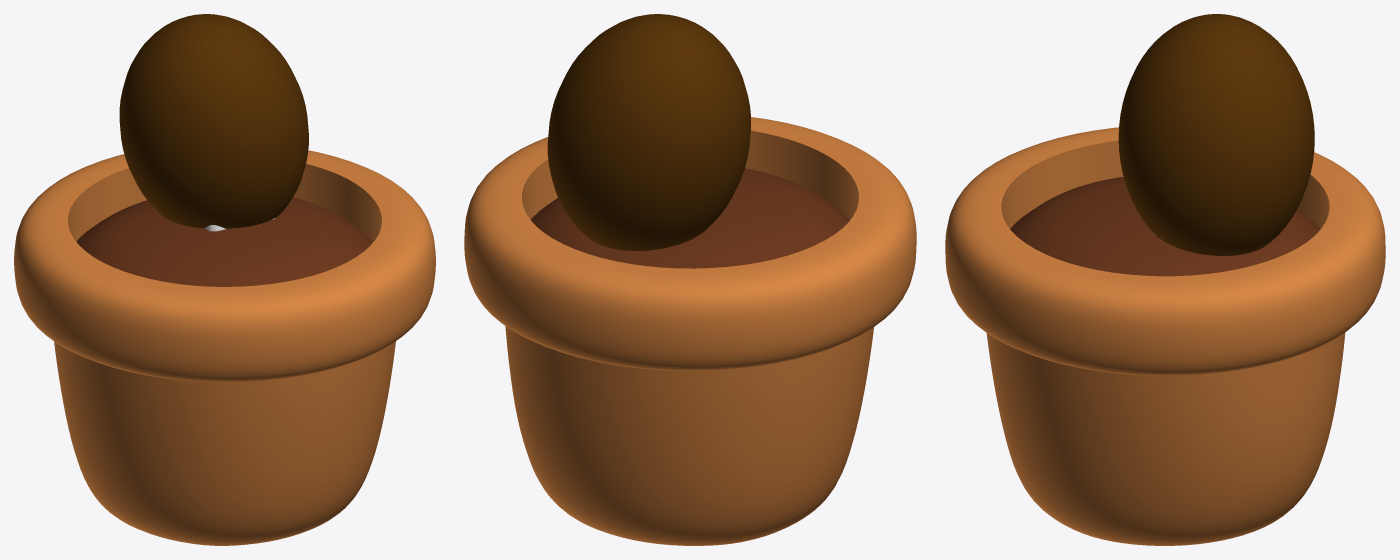
File: plant.glb
The picture shows the model from 3 angles, left to right: view 1: azimuth 30°, elevation 25°; view 2: azimuth 150°, elevation 25°; view 3: azimuth 270°, elevation 25°; orthographic projection. The views are drawn at different scales.
Visible parts, largest first — view 1: plant.001, Sphere; view 2: plant.001, Sphere; view 3: plant.001, Sphere.
Part boxes in pixels (box(x1,y1,x2,y2)): plant.001: box(14, 150, 435, 545); Sphere: box(119, 14, 308, 228); plant.001: box(464, 117, 916, 545); Sphere: box(547, 14, 750, 251); plant.001: box(945, 127, 1385, 545); Sphere: box(1118, 14, 1314, 255).
Size of what is drawn, in the model's own units: 2.23 by 2.72 by 2.23.
